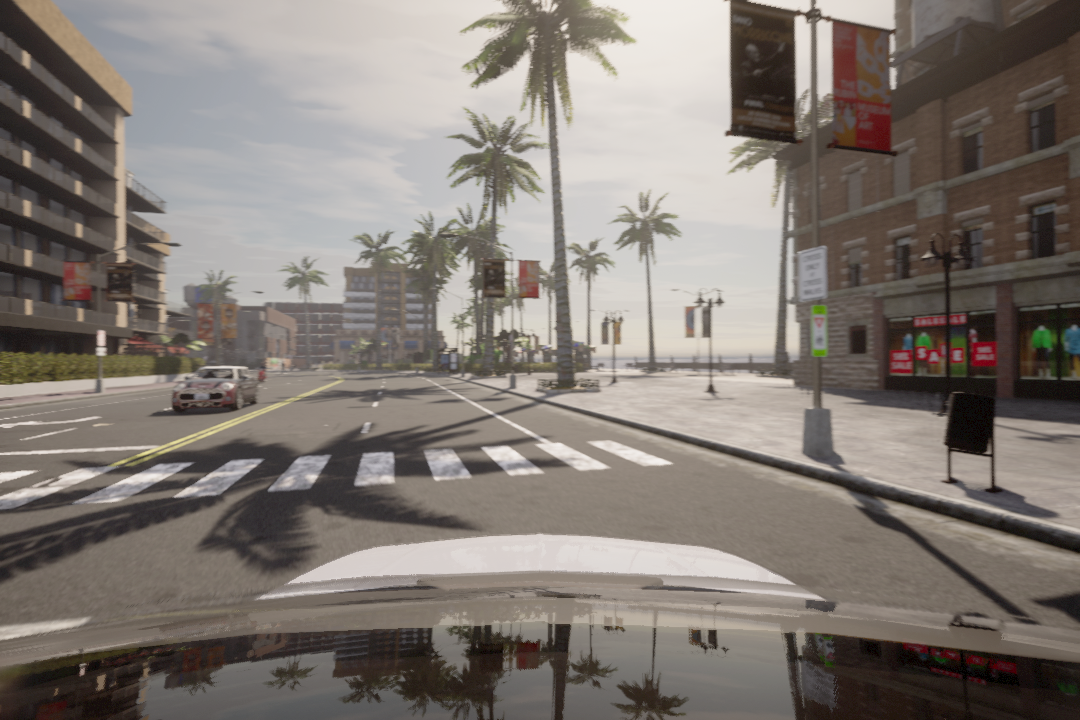RoadSign_right: (1, 409, 104, 431)
walkside: (1, 441, 731, 509)
